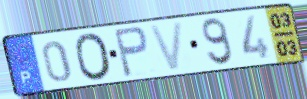0: (39, 39, 74, 83)
4: (239, 13, 271, 60)
9: (200, 16, 236, 68)
O: (72, 31, 115, 82)
P: (112, 25, 151, 79)
V: (147, 20, 186, 74)
